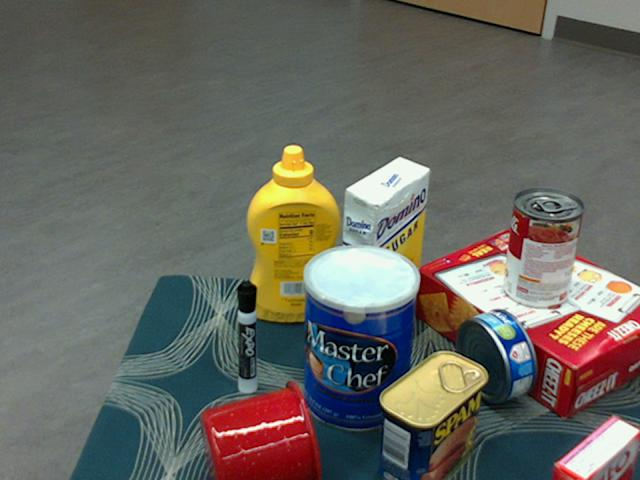cracker_box: (412, 227, 639, 414)
gelatin_box: (549, 415, 638, 479)
large_marker: (235, 280, 255, 394)
master_chef_can: (303, 245, 421, 433)
mug: (199, 380, 321, 479)
mustard_bottle: (246, 145, 339, 322)
potted_meat_can: (377, 351, 488, 479)
sugar_box: (336, 158, 431, 347)
tomato_soup_can: (503, 189, 583, 310)
tuna_fish_can: (457, 308, 538, 402)
